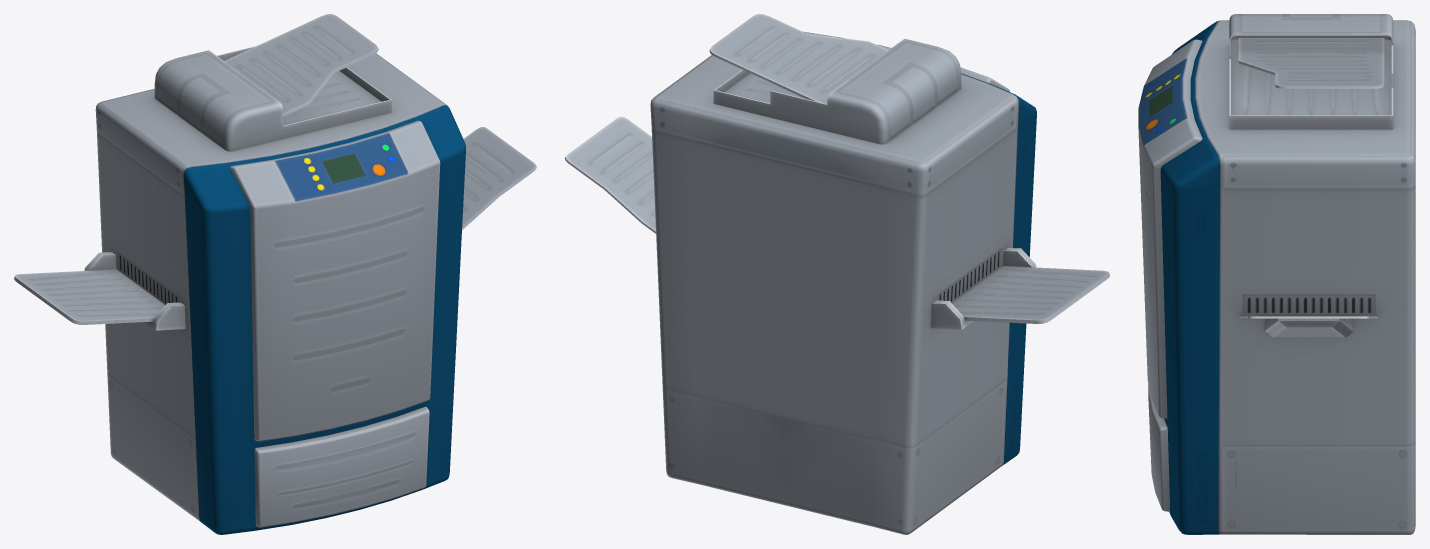
Rendered from OfficePrinter02.FBX.
The picture shows the model from 3 angles, left to right: view 1: azimuth 30°, elevation 25°; view 2: azimuth 150°, elevation 25°; view 3: azimuth 270°, elevation 25°; orthographic projection. The views are drawn at different scales.
Visible parts, largest first — view 1: OfficePrinter02; view 2: OfficePrinter02; view 3: OfficePrinter02.
Part boxes in pixels (bbox=[...]): OfficePrinter02: bbox=[14, 14, 536, 534]; OfficePrinter02: bbox=[565, 14, 1109, 534]; OfficePrinter02: bbox=[1138, 14, 1415, 534].
Size of what is drawn, in the model's own units: 1.76 by 1.46 by 0.8383.
